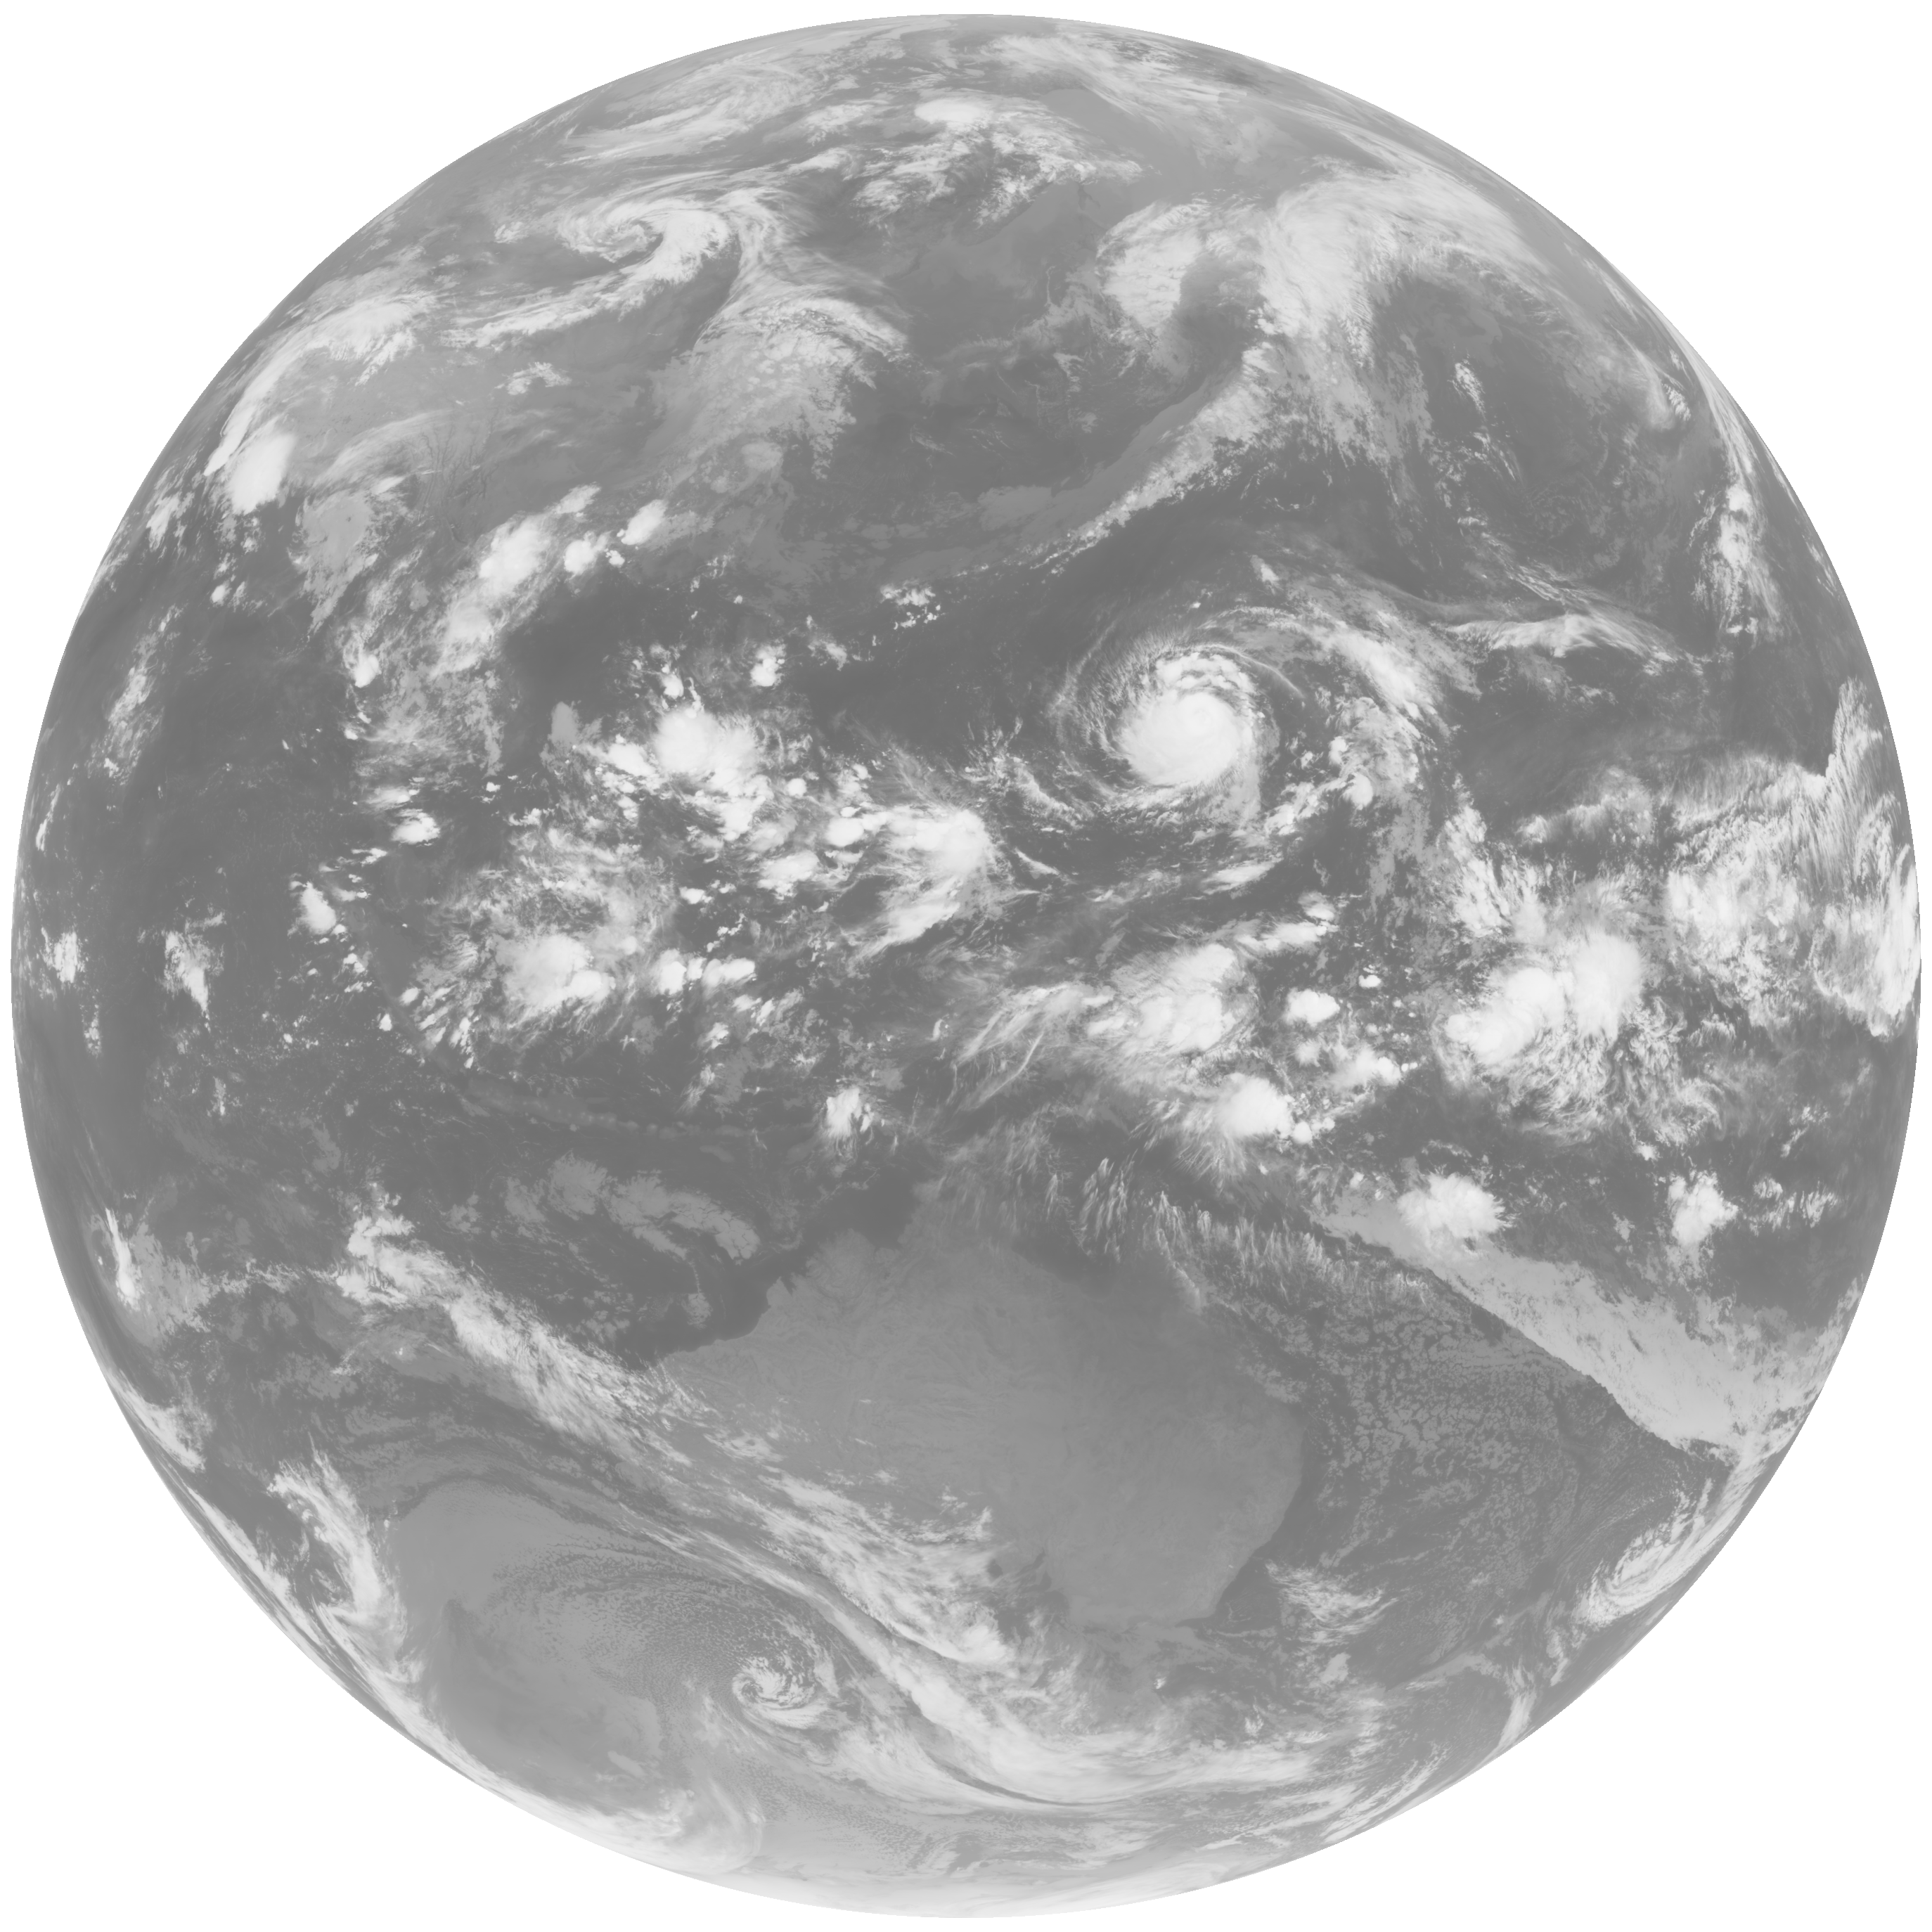typhoon: (973, 547, 1437, 858)
